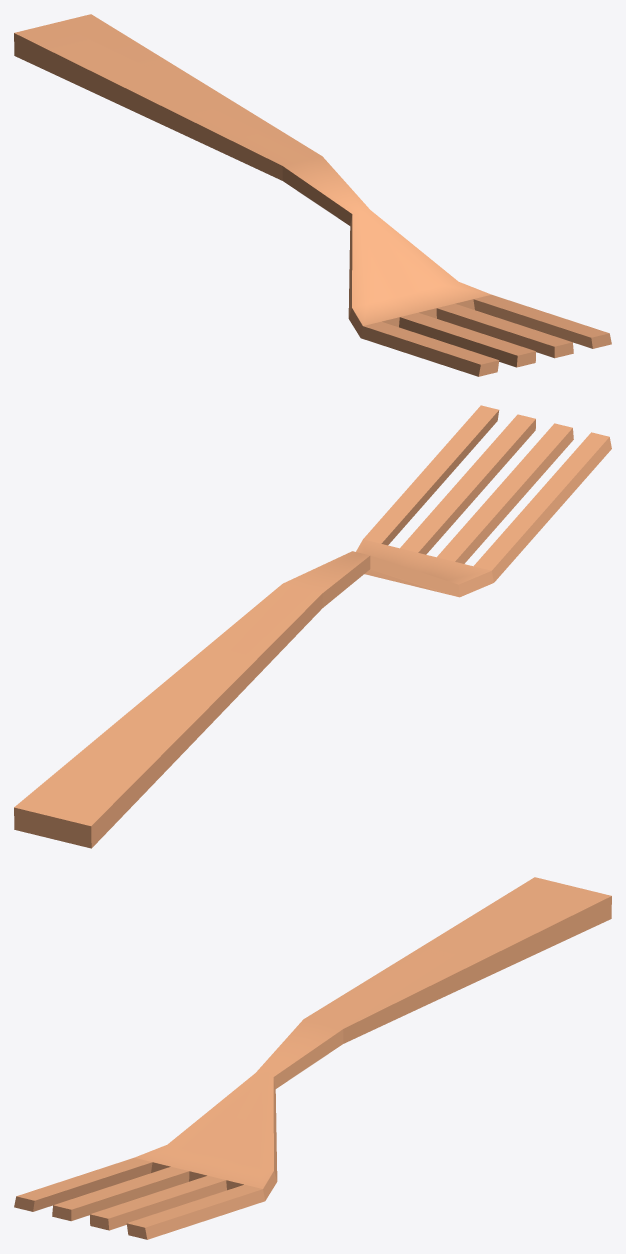
File: Fork01.fbx
The picture shows the model from 3 angles, top to bottom: view 1: azimuth 30°, elevation 25°; view 2: azimuth 150°, elevation 25°; view 3: azimuth 330°, elevation 25°; orthographic projection.
Parts seen in each view (by area): view 1: Utensils01_Uv_v001:Fork01_Modelling_v001:Fork_Body; view 2: Utensils01_Uv_v001:Fork01_Modelling_v001:Fork_Body; view 3: Utensils01_Uv_v001:Fork01_Modelling_v001:Fork_Body.
Part boxes in pixels (x1,y1,x2,y2): Utensils01_Uv_v001:Fork01_Modelling_v001:Fork_Body: (14, 14, 611, 376); Utensils01_Uv_v001:Fork01_Modelling_v001:Fork_Body: (14, 405, 611, 848); Utensils01_Uv_v001:Fork01_Modelling_v001:Fork_Body: (14, 877, 611, 1239).
Bounding box in the file's own units: 4.06 × 2.03 × 25.97.
Materials: 1 (1 with a texture image).
